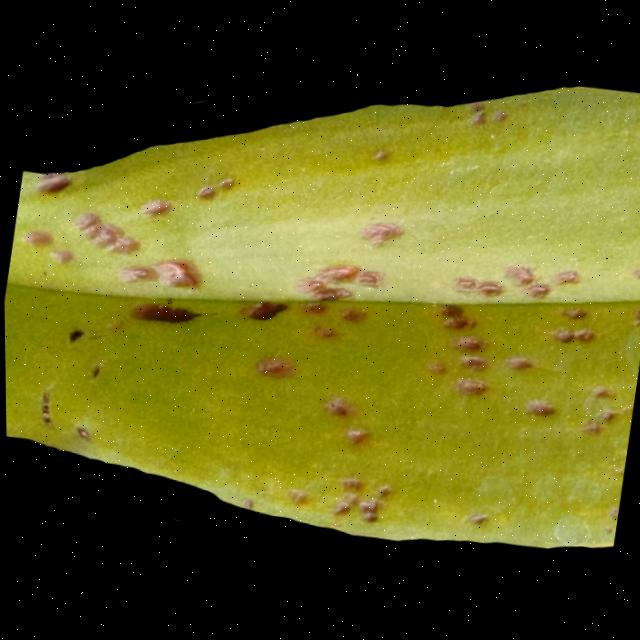mite: (419, 288, 636, 446), (31, 319, 114, 450), (423, 303, 501, 406), (327, 476, 392, 532), (58, 325, 110, 385), (191, 172, 237, 209), (245, 299, 289, 328), (436, 306, 475, 338), (550, 327, 597, 353), (33, 169, 73, 199), (520, 400, 558, 425), (66, 421, 97, 449), (354, 500, 382, 529), (81, 359, 107, 386), (194, 184, 219, 205), (463, 512, 489, 532), (64, 327, 86, 347), (71, 425, 93, 444), (86, 364, 102, 382)
spots: (3, 14, 640, 575)
